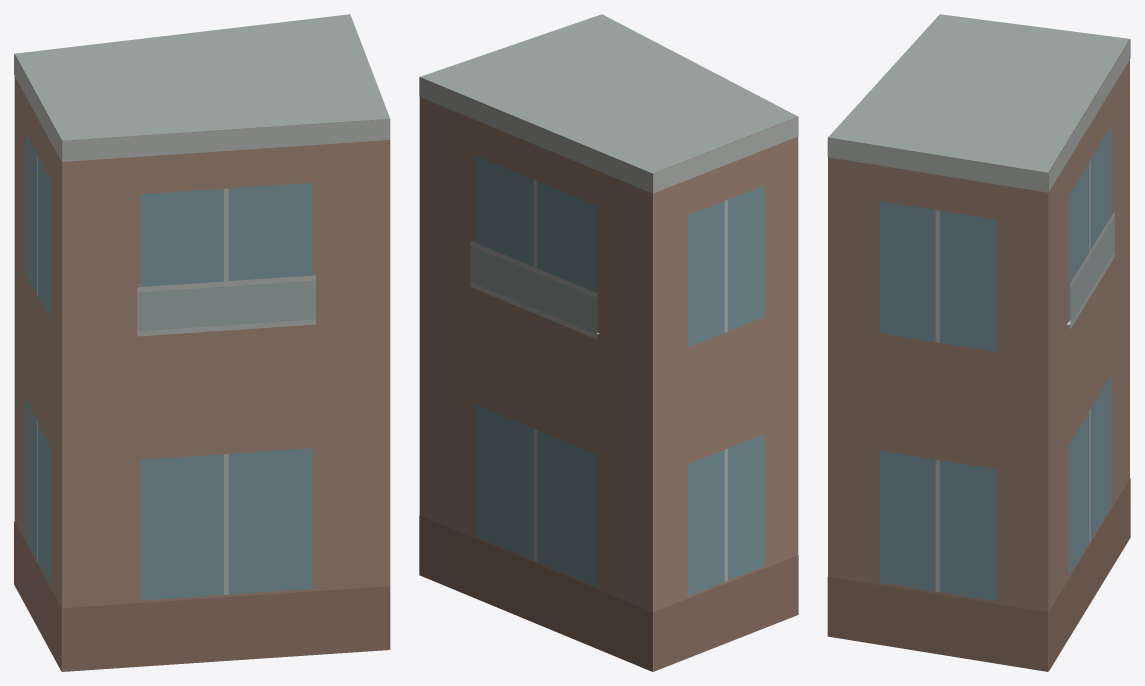
File: survey-upis-32547152.glb
3 renders of one model, left to right at view 1: azimuth 30°, elevation 25°; view 2: azimuth 150°, elevation 25°; view 3: azimuth 270°, elevation 25°, orthographic. The views are drawn at different scales.
Parts seen in each view (by area): view 1: survey-upis-32547152.tmp; view 2: survey-upis-32547152.tmp; view 3: survey-upis-32547152.tmp.
Boxes of the visible parts, left/top/right/bottom form: survey-upis-32547152.tmp: left=14, top=14, right=390, bottom=671; survey-upis-32547152.tmp: left=419, top=14, right=798, bottom=671; survey-upis-32547152.tmp: left=827, top=14, right=1130, bottom=671.
Size of the model in its own units: 4.17 by 6.1 by 3.36.
